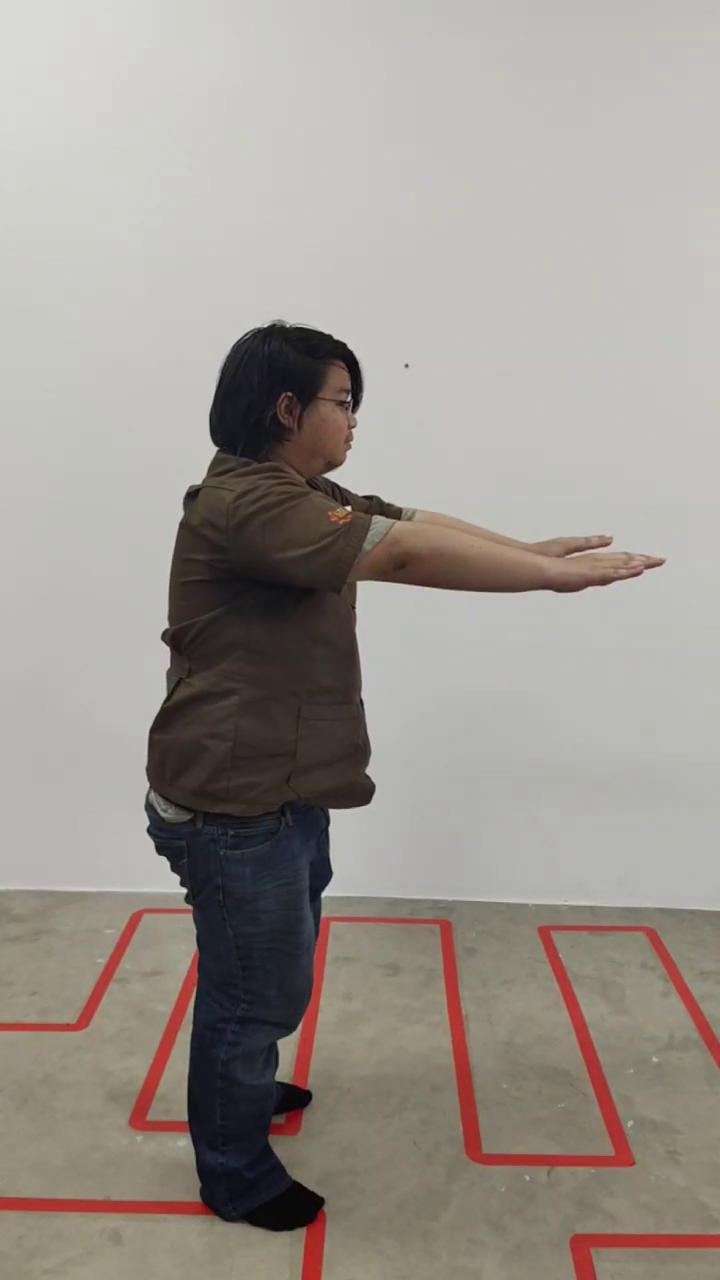squat up: (144, 322, 663, 1235)
